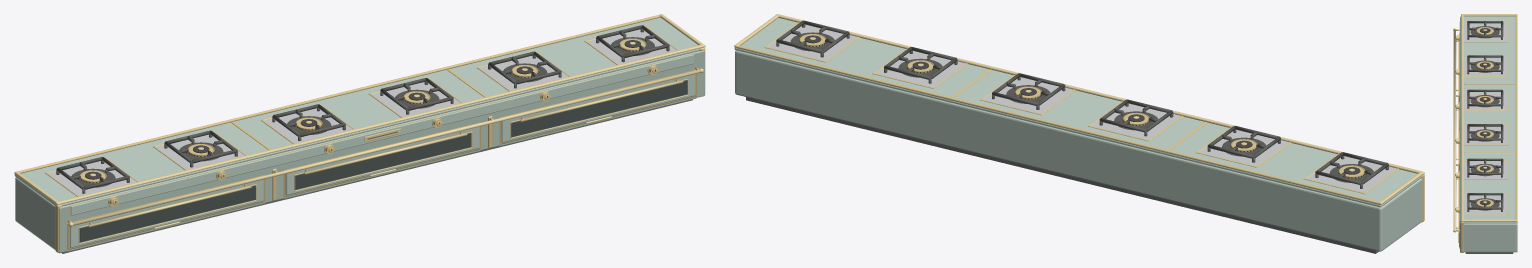
Rendered from stove.glb.
The picture shows the model from 3 angles, left to right: view 1: azimuth 30°, elevation 25°; view 2: azimuth 150°, elevation 25°; view 3: azimuth 270°, elevation 25°; orthographic projection. The views are drawn at different scales.
Visible parts, largest first — view 1: stove_sage_enamel, stove_sage_enamel_deep, stove_brass_polished, stove_oven_glass, stove_brass, stove_cast_iron, stove_brushed_steel, stove_brass_aged, stove_plinth, stove_burner_cap; view 2: stove_sage_enamel, stove_cast_iron, stove_brushed_steel, stove_brass, stove_plinth, stove_brass_polished, stove_burner_cap, stove_brass_aged; view 3: stove_sage_enamel, stove_brushed_steel, stove_cast_iron, stove_brass, stove_brass_polished, stove_burner_cap, stove_brass_aged, stove_sage_enamel_deep, stove_plinth.
Part boxes in pixels (box(x1,y1,x2,y2)): stove_sage_enamel: box(14, 17, 700, 249); stove_sage_enamel_deep: box(58, 50, 704, 253); stove_brass_polished: box(14, 14, 705, 229); stove_oven_glass: box(79, 80, 687, 242); stove_brass: box(18, 15, 705, 252); stove_cast_iron: box(56, 25, 669, 193); stove_brushed_steel: box(47, 29, 676, 196); stove_brass_aged: box(67, 38, 696, 249); stove_plinth: box(62, 99, 692, 253); stove_burner_cap: box(81, 40, 646, 183); stove_sage_enamel: box(734, 18, 1422, 251); stove_cast_iron: box(776, 20, 1388, 188); stove_brushed_steel: box(768, 24, 1397, 192); stove_brass: box(735, 22, 1424, 222); stove_plinth: box(746, 97, 1378, 253); stove_brass_polished: box(734, 14, 1424, 204); stove_burner_cap: box(799, 35, 1363, 178); stove_brass_aged: box(799, 34, 1365, 177); stove_sage_enamel: box(1459, 16, 1517, 252); stove_brushed_steel: box(1463, 23, 1507, 213); stove_cast_iron: box(1467, 21, 1503, 211); stove_brass: box(1455, 15, 1517, 252); stove_brass_polished: box(1453, 14, 1517, 232); stove_burner_cap: box(1476, 28, 1493, 207); stove_brass_aged: box(1459, 27, 1493, 248); stove_sage_enamel_deep: box(1460, 17, 1460, 252); stove_plinth: box(1465, 252, 1513, 253).
Bounding box in the file's own units: 9.02 × 0.805 × 1.19.
